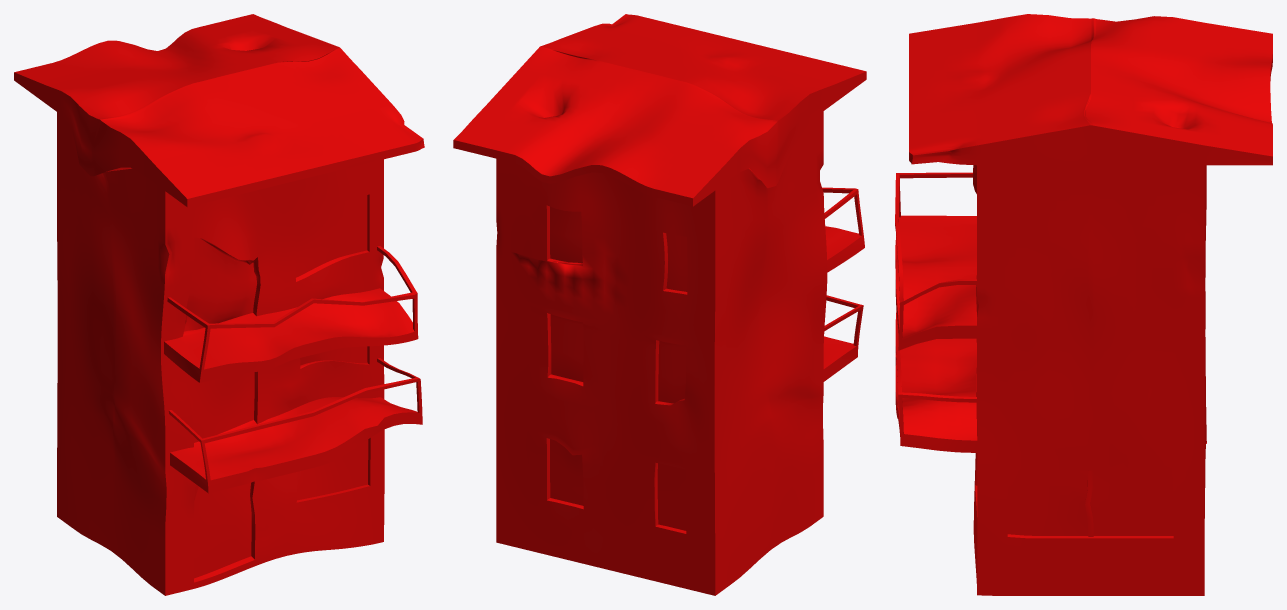
File: broken_house_2.fbx
3 views of the same model, side by side, from view 1: azimuth 30°, elevation 25°; view 2: azimuth 150°, elevation 25°; view 3: azimuth 270°, elevation 25° (orthographic). The views are drawn at different scales.
Parts seen in each view (by area): view 1: high_house; view 2: high_house; view 3: high_house.
Boxes of the visible parts, x1,y1,x2,y2 form: high_house: [14, 14, 424, 595]; high_house: [453, 14, 866, 595]; high_house: [895, 14, 1272, 595].
Bounding box in the file's own units: 1282 × 2275 × 1637.
